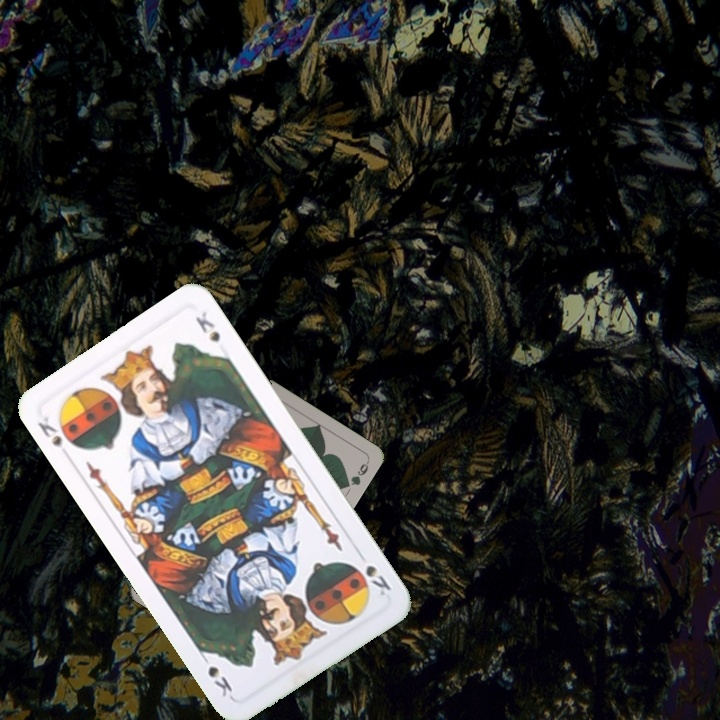SK: (353, 547, 394, 599), (33, 413, 65, 450)
